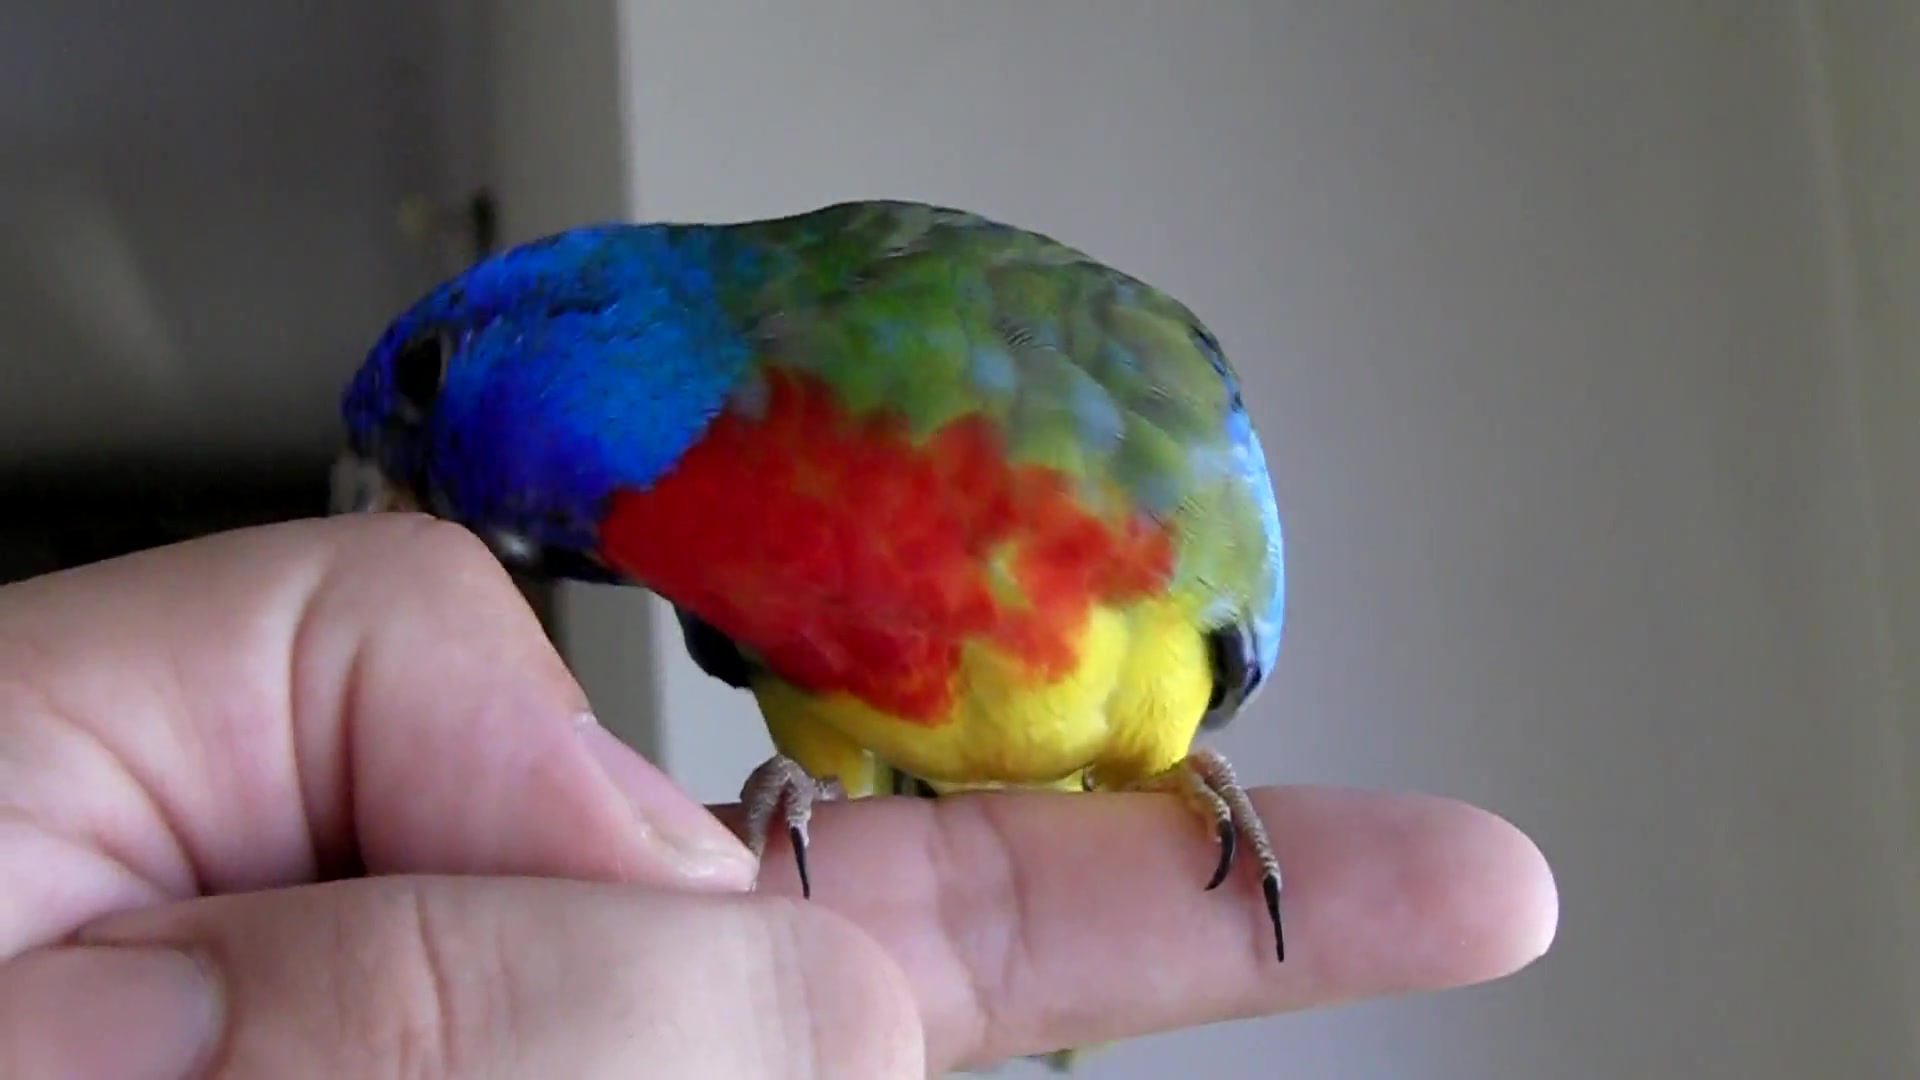bird: (326, 195, 1292, 963)
